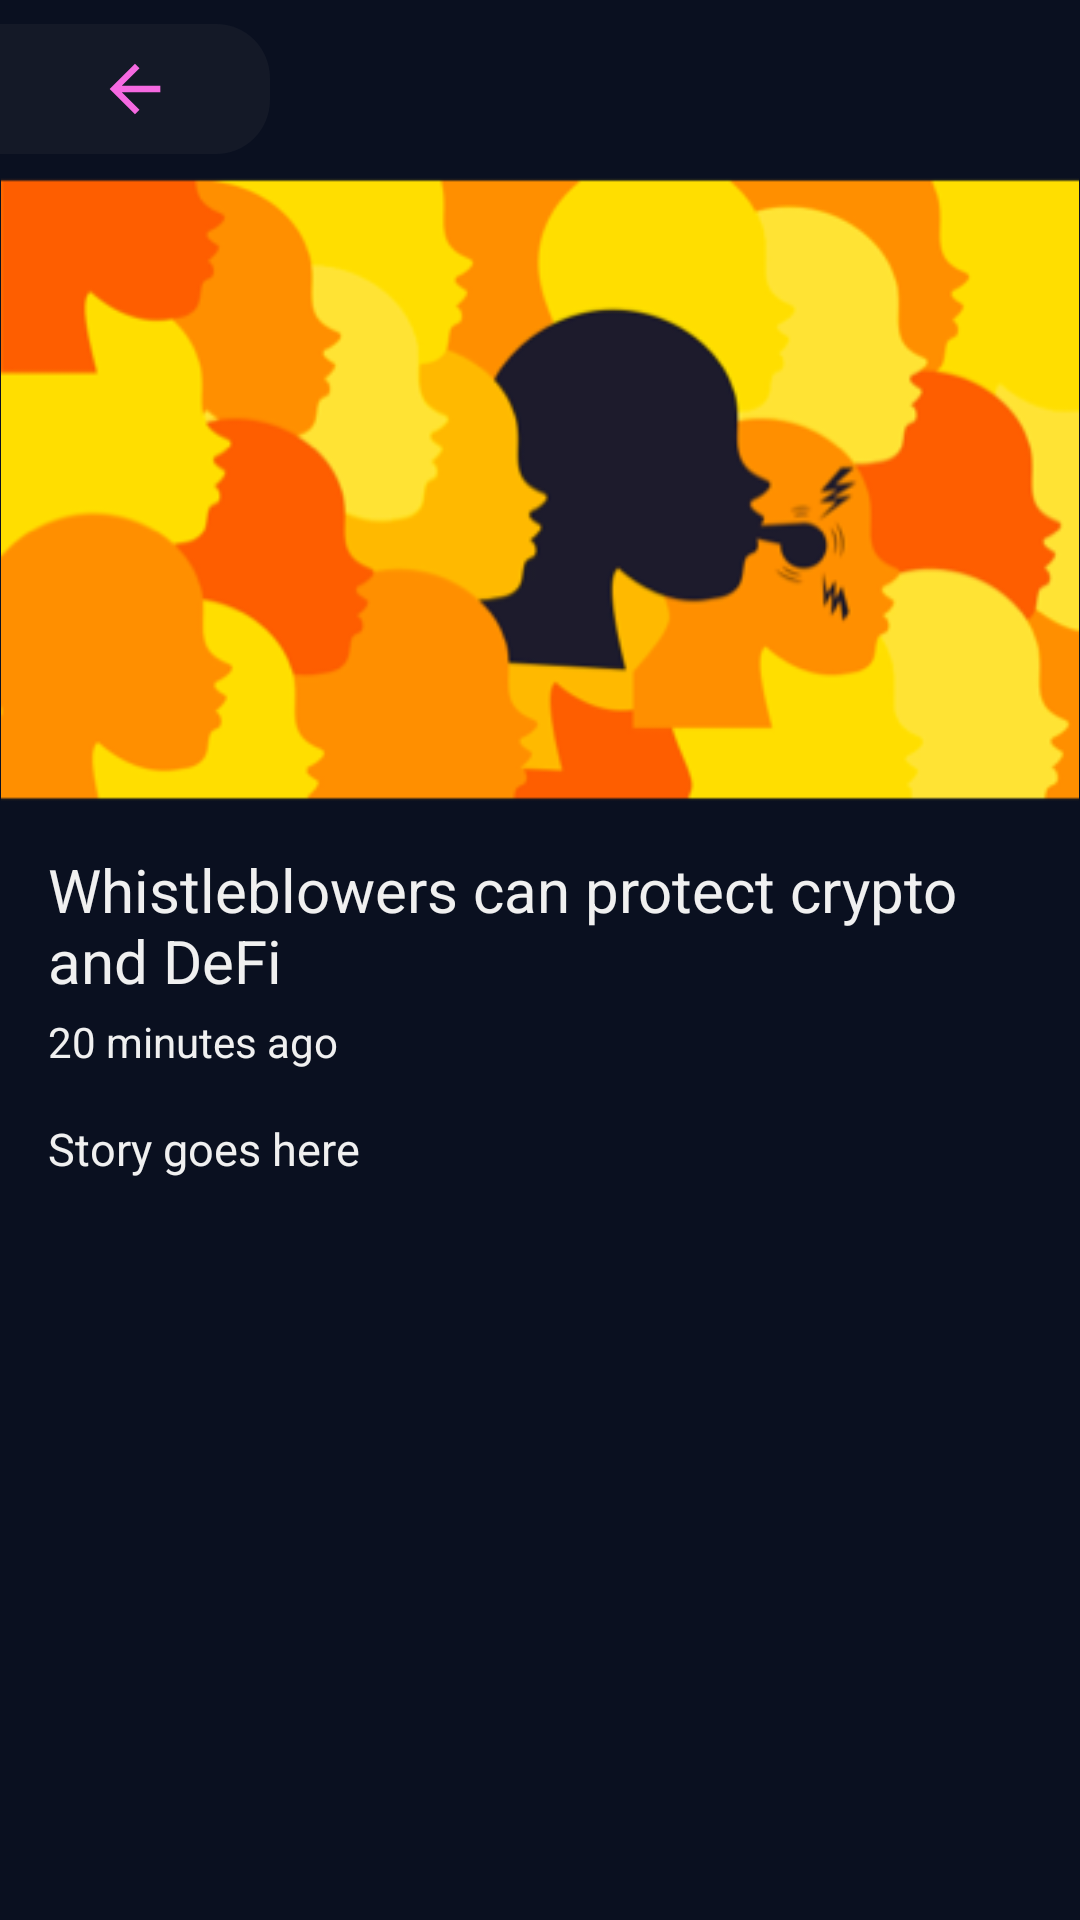

Icons on this 1080px×1920px Android screen, each with the point to tap as [x,y]:
arrow back: [135,89]
